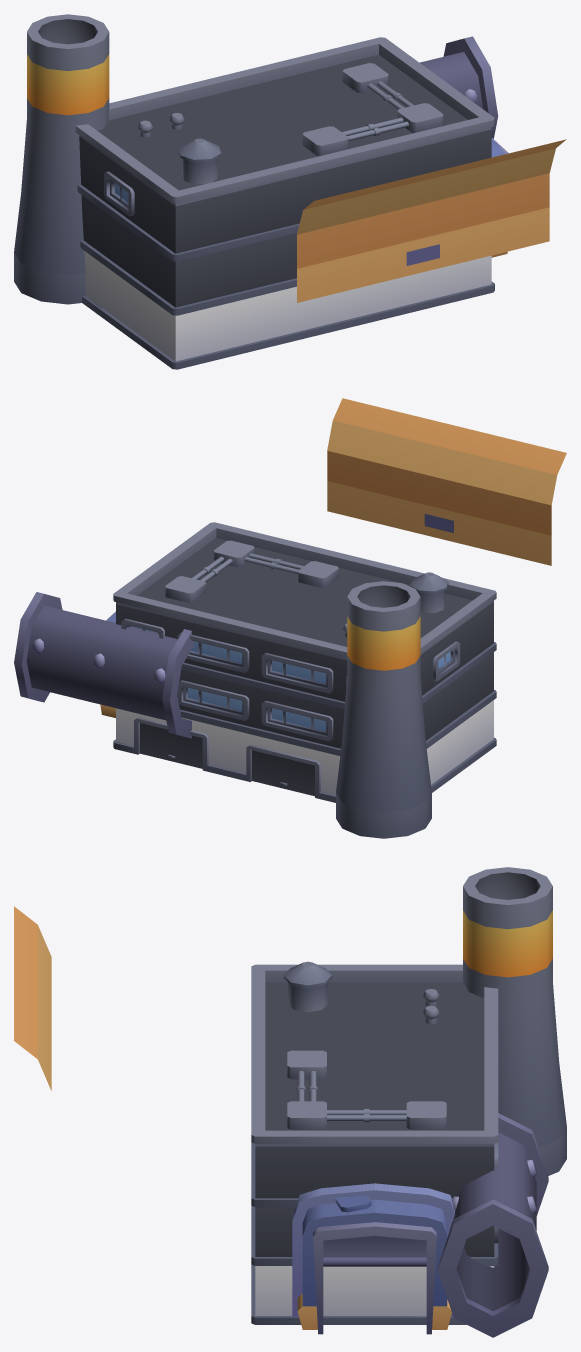
The model's file is SU_HeavyFactory_LOD0.glb.
3 views of the same model, one above another, from view 1: azimuth 30°, elevation 25°; view 2: azimuth 150°, elevation 25°; view 3: azimuth 270°, elevation 25° (orthographic). The views are drawn at different scales.
Parts seen in each view (by area): view 1: building-a, door-wide-open, chimney-large, pipe-large-long; view 2: building-a, door-wide-open, chimney-large, pipe-large-long; view 3: building-a, chimney-large, machine-fortified, pipe-large-long, door-wide-open.
Part boxes in pixels (x1=…): building-a: x1=75, y1=37, x2=494, y2=369; door-wide-open: x1=297, y1=139, x2=566, y2=302; chimney-large: x1=14, y1=14, x2=109, y2=304; pipe-large-long: x1=420, y1=36, x2=498, y2=138; building-a: x1=113, y1=522, x2=496, y2=802; door-wide-open: x1=327, y1=398, x2=566, y2=565; chimney-large: x1=336, y1=581, x2=431, y2=838; pipe-large-long: x1=14, y1=592, x2=193, y2=738; building-a: x1=251, y1=961, x2=498, y2=1324; chimney-large: x1=463, y1=867, x2=566, y2=1175; machine-fortified: x1=292, y1=1183, x2=454, y2=1334; pipe-large-long: x1=437, y1=1113, x2=548, y2=1337; door-wide-open: x1=14, y1=906, x2=51, y2=1090.
Size of what is drawn, in the model's own units: 7.6 by 4.08 by 7.49.
5 materials, 5 textured.
